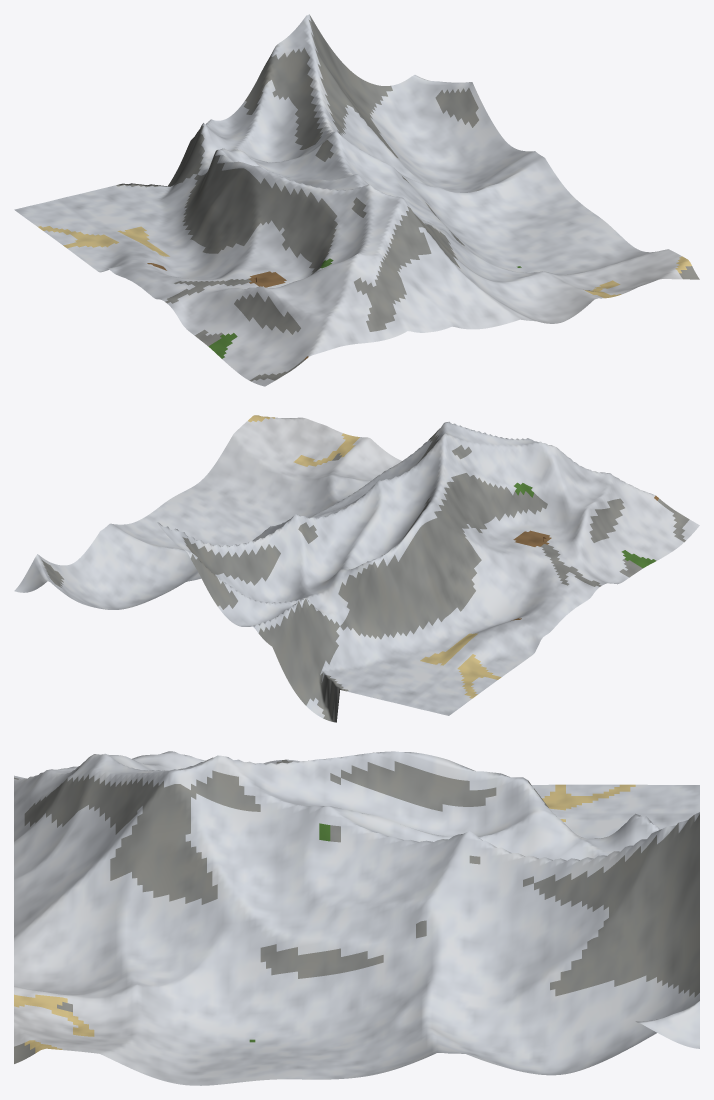
Rendered from chunk_7_2.glb.
The picture shows the model from 3 angles, top to bottom: view 1: azimuth 30°, elevation 25°; view 2: azimuth 150°, elevation 25°; view 3: azimuth 270°, elevation 25°; orthographic projection. The views are drawn at different scales.
Parts seen in each view (by area): view 1: Surface_Snow, Surface_Gravel, Surface_Sand; view 2: Surface_Snow, Surface_Gravel, Surface_Sand; view 3: Surface_Snow, Surface_Gravel, Surface_Sand.
Boxes of the visible parts, <box> form: Surface_Snow: <box>14,14,682,386</box>; Surface_Gravel: <box>116,15,699,381</box>; Surface_Sand: <box>38,226,691,298</box>; Surface_Snow: <box>14,417,699,718</box>; Surface_Gravel: <box>41,430,689,722</box>; Surface_Sand: <box>248,415,501,698</box>; Surface_Snow: <box>14,751,699,1085</box>; Surface_Gravel: <box>14,759,699,1063</box>; Surface_Sand: <box>14,784,635,1053</box>.
Size of the model in its own units: 256 by 88.62 by 256.
